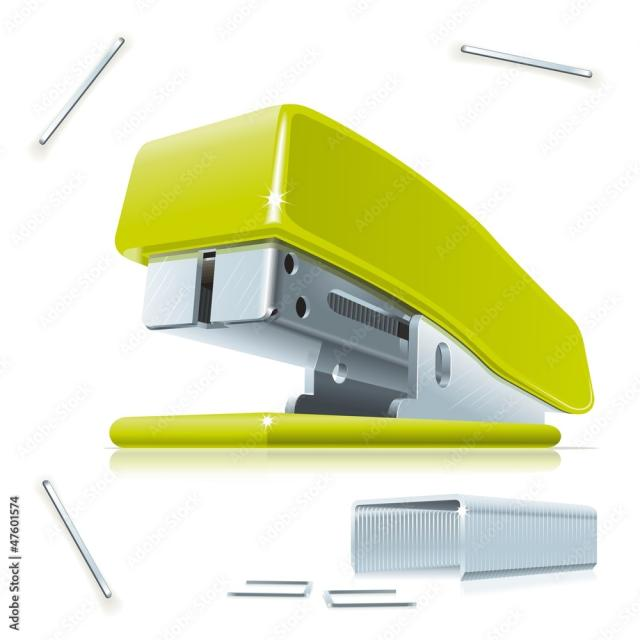Stapler: (98, 87, 620, 474)
